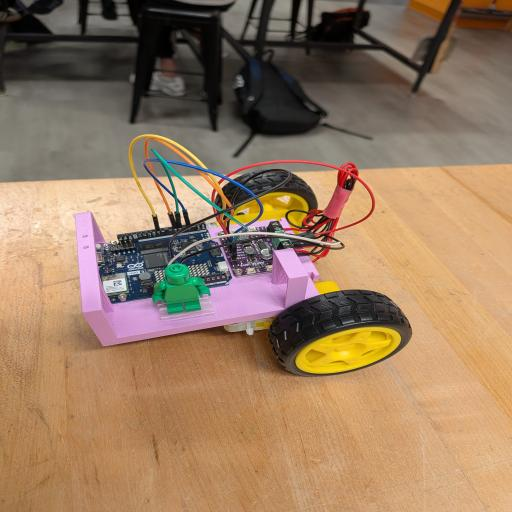Minifig: (153, 264, 210, 313)
